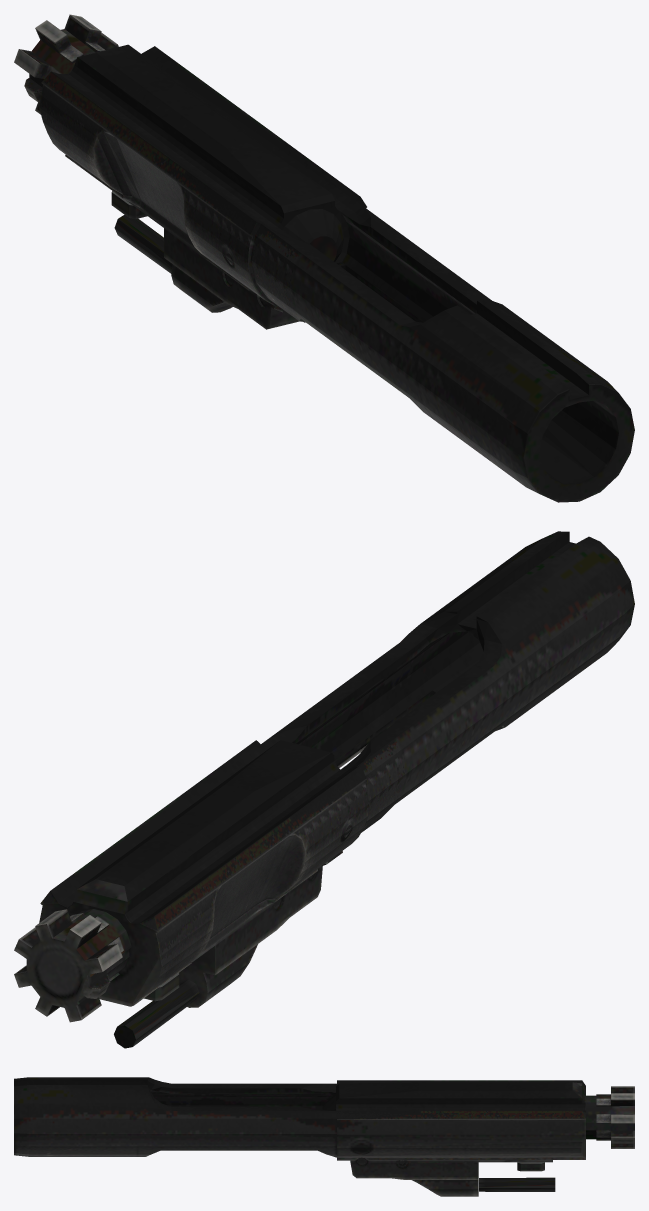
3 renders of one model, top to bottom at view 1: azimuth 30°, elevation 25°; view 2: azimuth 150°, elevation 25°; view 3: azimuth 270°, elevation 25°, orthographic. The views are drawn at different scales.
Parts seen in each view (by area): view 1: TW_5d43021ca4b9362eab4b5e25_PZ_Import; view 2: TW_5d43021ca4b9362eab4b5e25_PZ_Import; view 3: TW_5d43021ca4b9362eab4b5e25_PZ_Import.
Part boxes in pixels (bbox=[...]): TW_5d43021ca4b9362eab4b5e25_PZ_Import: bbox=[14, 14, 634, 502]; TW_5d43021ca4b9362eab4b5e25_PZ_Import: bbox=[14, 531, 634, 1048]; TW_5d43021ca4b9362eab4b5e25_PZ_Import: bbox=[14, 1077, 634, 1196].
Bounding box in the file's own units: 0.0143 × 0.1058 × 0.0213.
1 material, 1 textured.
